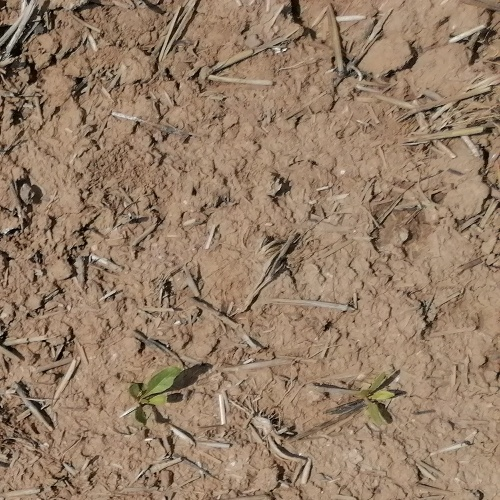beet: (128, 368, 181, 426), (362, 376, 399, 429)
